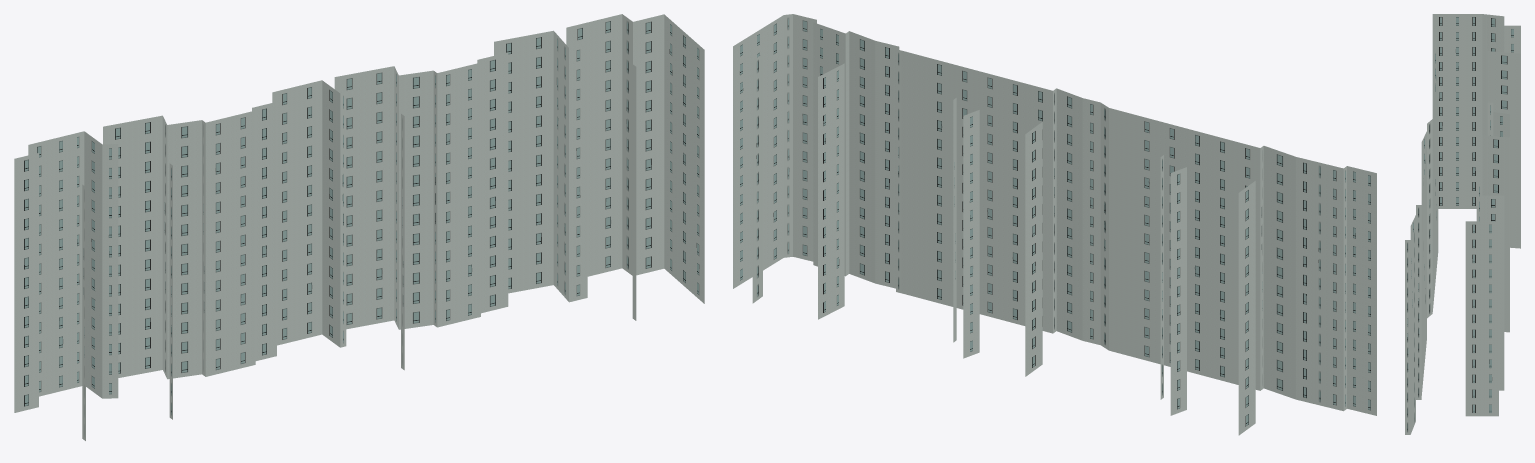
The picture shows the model from 3 angles, left to right: view 1: azimuth 30°, elevation 25°; view 2: azimuth 150°, elevation 25°; view 3: azimuth 270°, elevation 25°; orthographic projection. The views are drawn at different scales.
Size of the model in its own units: 103 by 39 by 21.
Materials: 2 (1 with a texture image).
